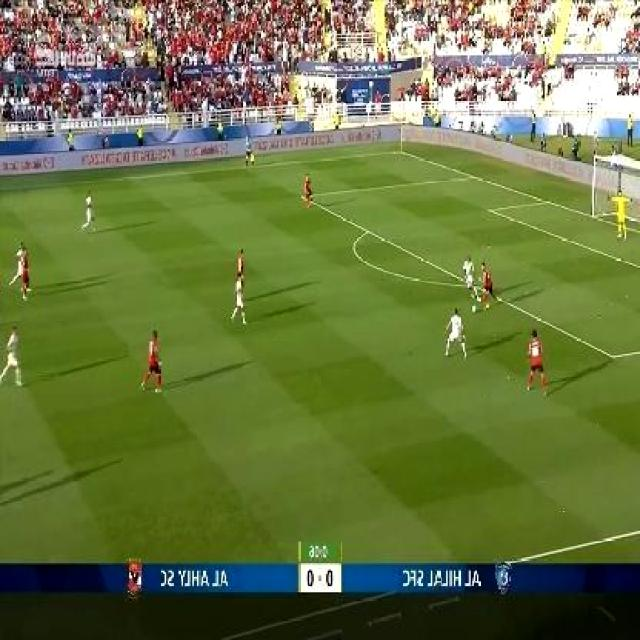bigarea_bottom_inner: (606, 343, 625, 366)
bigarea_top_inner: (300, 189, 311, 203)
bigarea_top_outter: (468, 168, 480, 182)
corner: (394, 143, 409, 155)
smallarea_top_inner: (486, 202, 500, 216)
smallarea_top_outter: (542, 192, 556, 208)
top_arc_area_intersection: (363, 222, 377, 238)
